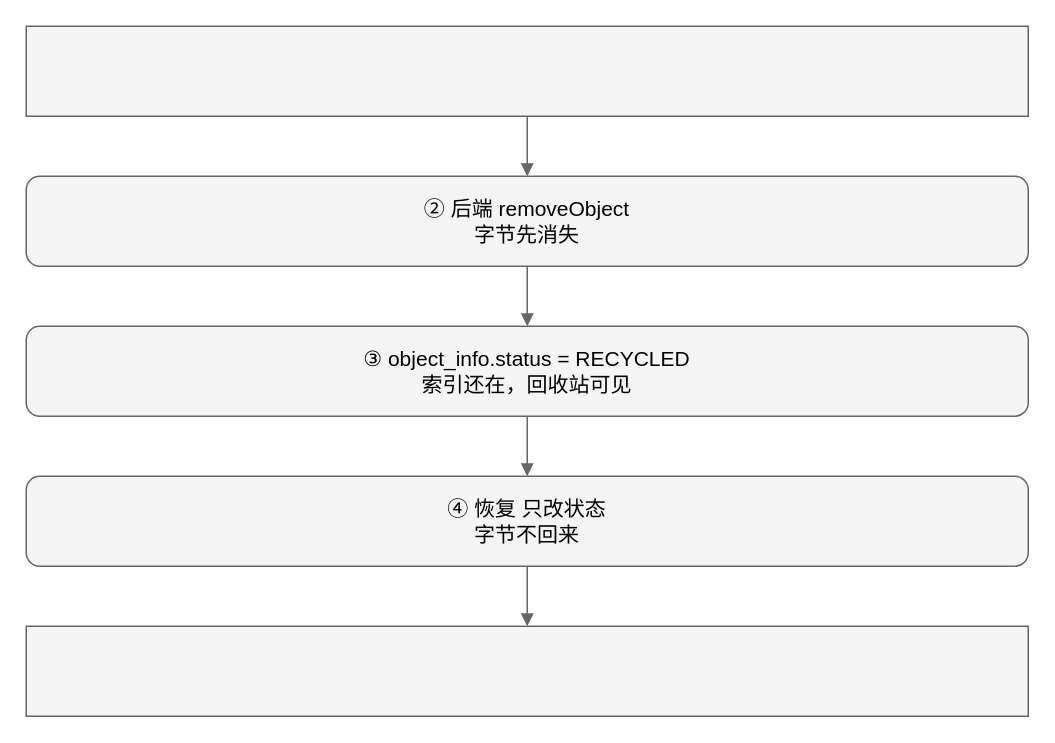
The diagram is 1055 pixels wide and 743 high, and some of its shapes have lost their labels. Here are the shapes that lost their labels. From the top down, the centre of each, then its label:
At point (526, 70): "① DELETE /{bucket}/{key}".
At point (526, 670): "⑤ 30 天后清理任务删行".
